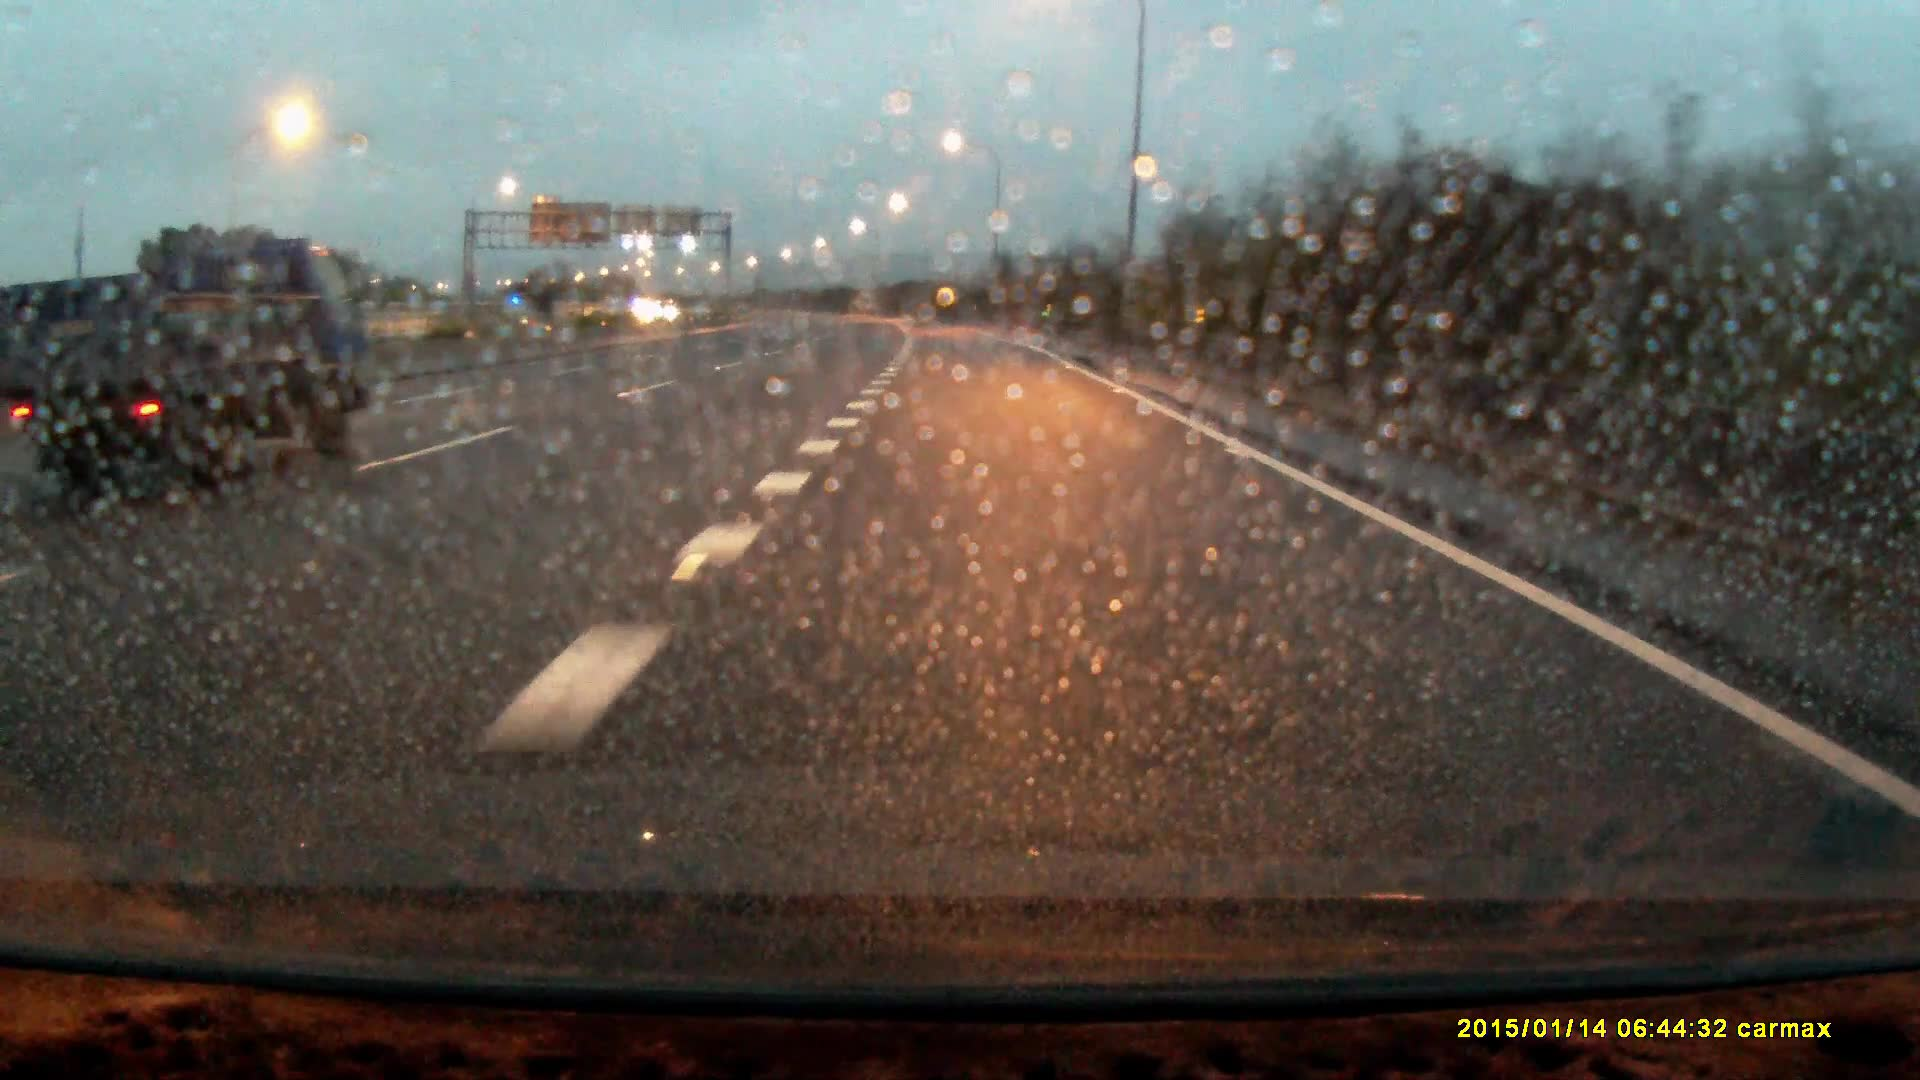vehicle: (3, 225, 377, 506)
